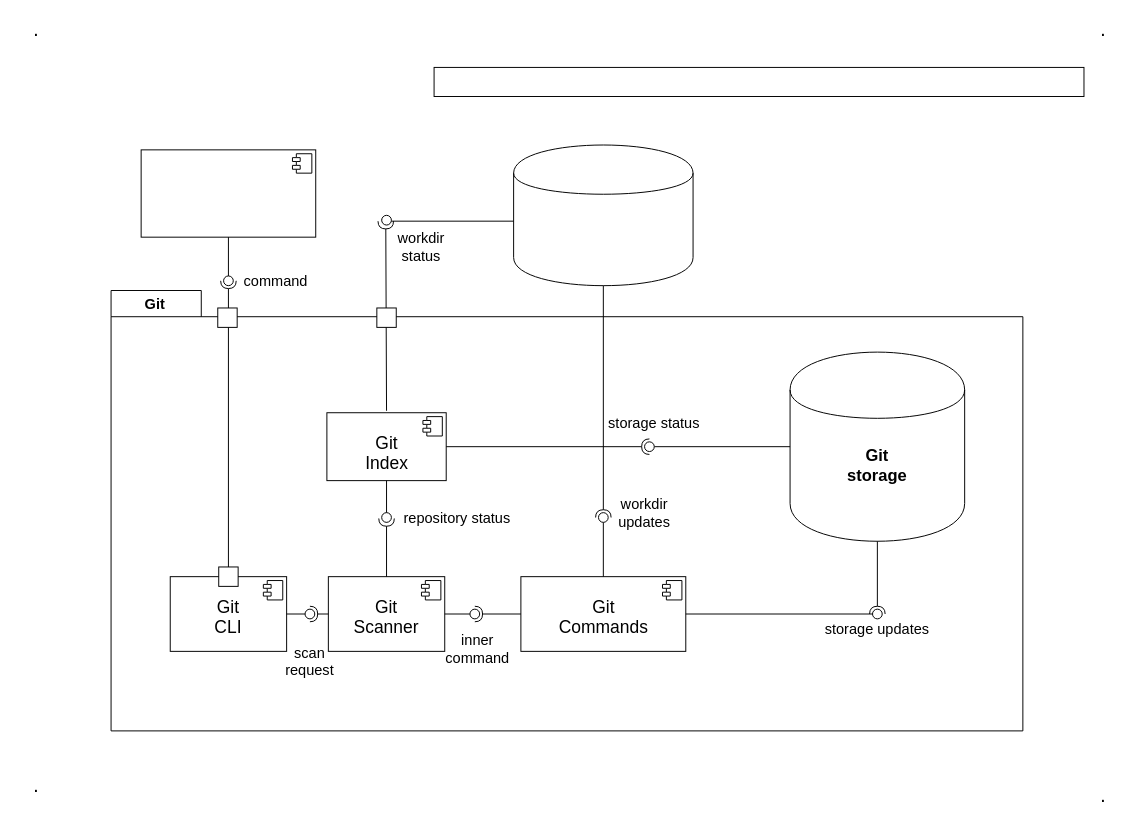
This 1139x823 diagram has some shape labels left out. The shapes that lost their labels are listed below. From the top down, each one's centre as x and y in pixels, then its label:
At (758,81): "VCS UML component diagramm. Рыбин Иван, ИТМО JB SD 2020".
At (228,193): "System CLI".
At (603,215): "Working directory".
